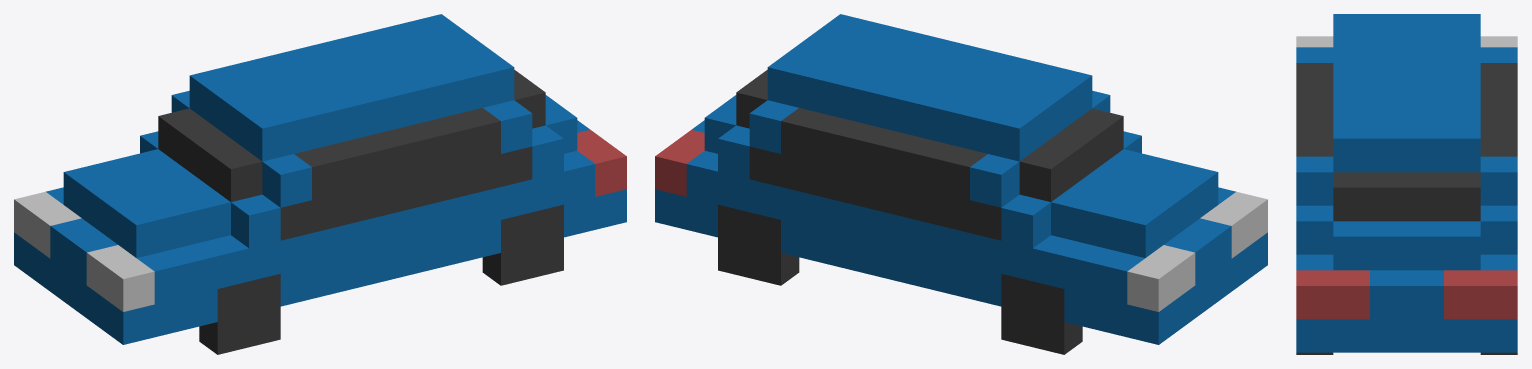
The model's file is car-v4-blue.gltf.
3 views of the same model, side by side, from view 1: azimuth 30°, elevation 25°; view 2: azimuth 150°, elevation 25°; view 3: azimuth 270°, elevation 25° (orthographic).
Parts seen in each view (by area): view 1: model, wheels; view 2: model, wheels; view 3: model, wheels.
Part boxes in pixels (x1=…): model: x1=14, y1=14, x2=626, y2=344; wheels: x1=199, y1=204, x2=563, y2=354; model: x1=655, y1=14, x2=1267, y2=344; wheels: x1=718, y1=204, x2=1082, y2=354; model: x1=1296, y1=14, x2=1517, y2=352; wheels: x1=1296, y1=352, x2=1517, y2=354.
Size of the model in its own units: 1.6 by 0.6 by 0.6.
2 materials, 2 textured.
